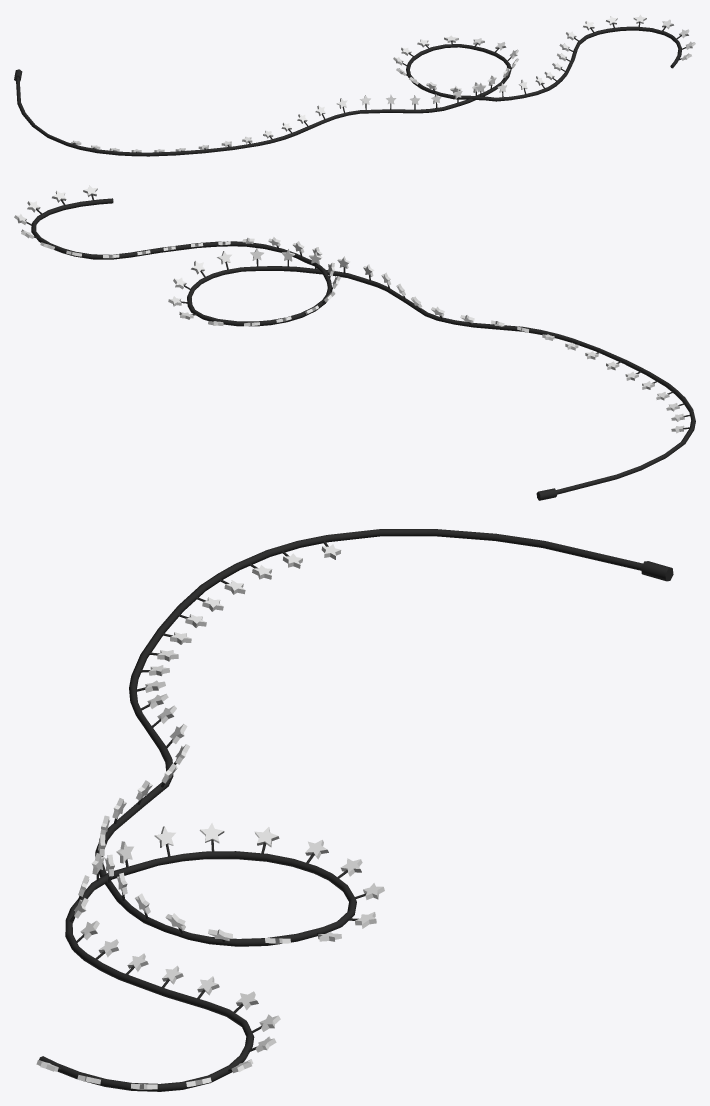
Rendered from ChristmasChainLight_06.fbx.
3 renders of one model, top to bottom at view 1: azimuth 30°, elevation 25°; view 2: azimuth 150°, elevation 25°; view 3: azimuth 270°, elevation 25°, orthographic. The views are drawn at different scales.
Parts seen in each view (by area): view 1: ChristmasChainLight_06; view 2: ChristmasChainLight_06; view 3: ChristmasChainLight_06.
Part boxes in pixels (box(x1,y1,x2,y2)): ChristmasChainLight_06: box(14, 14, 695, 156); ChristmasChainLight_06: box(14, 185, 695, 500); ChristmasChainLight_06: box(36, 529, 673, 1091).
Size of the model in its own units: 2.46 by 0.0824 by 1.16.
